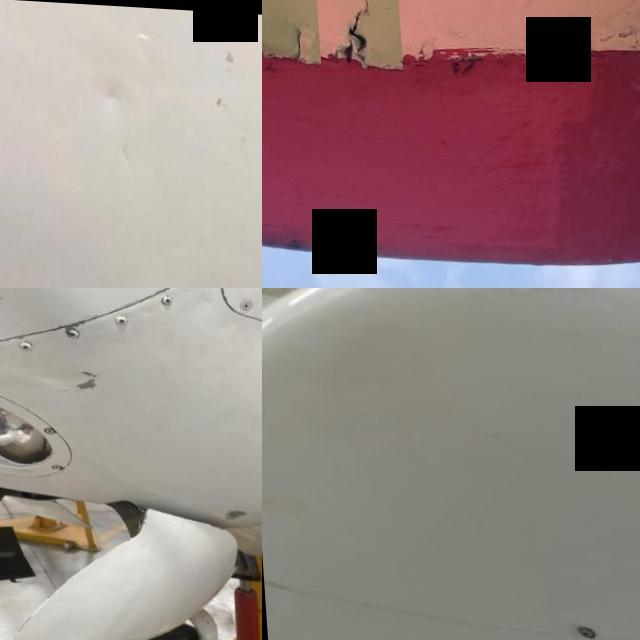Crack: (307, 0, 397, 69), (270, 7, 318, 70), (557, 605, 638, 640)
Dent: (99, 80, 119, 108), (41, 304, 46, 309)
